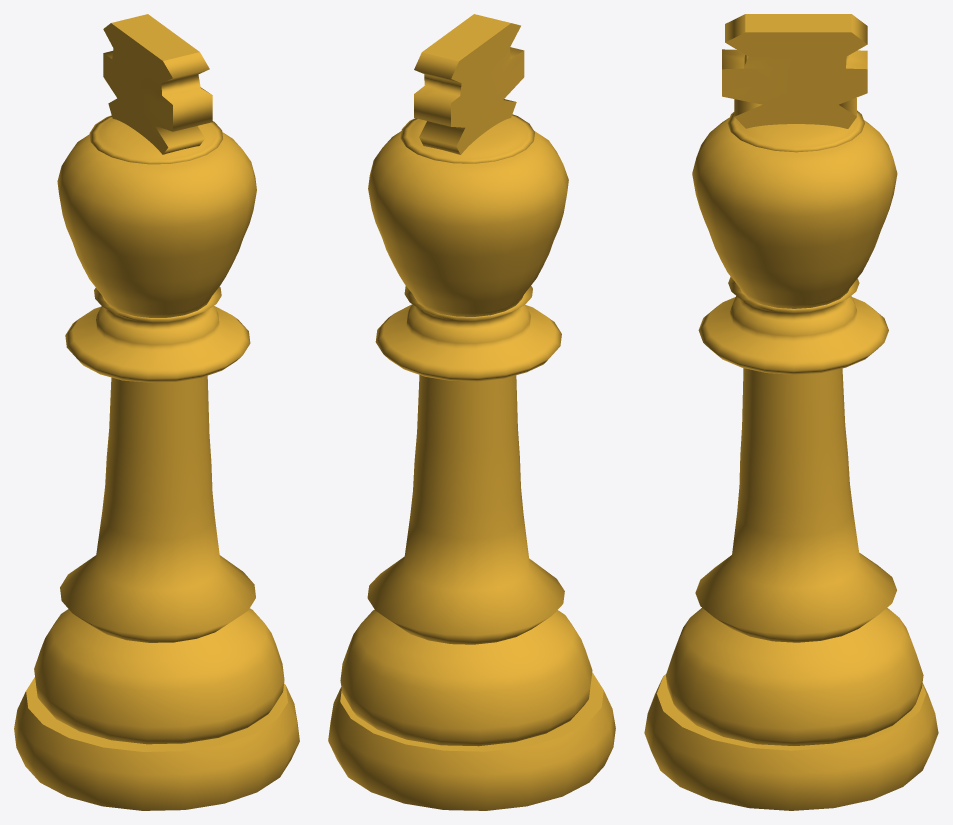
Rendered from king.fbx.
3 views of the same model, side by side, from view 1: azimuth 30°, elevation 25°; view 2: azimuth 150°, elevation 25°; view 3: azimuth 270°, elevation 25° (orthographic). The views are drawn at different scales.
Visible parts, largest first — view 1: onder_stukje; view 2: onder_stukje; view 3: onder_stukje.
Part boxes in pixels (x1,y1,x2,y2): onder_stukje: [14, 14, 299, 810]; onder_stukje: [328, 14, 615, 810]; onder_stukje: [644, 14, 938, 810].
Bounding box in the file's own units: 189 × 518 × 189.
